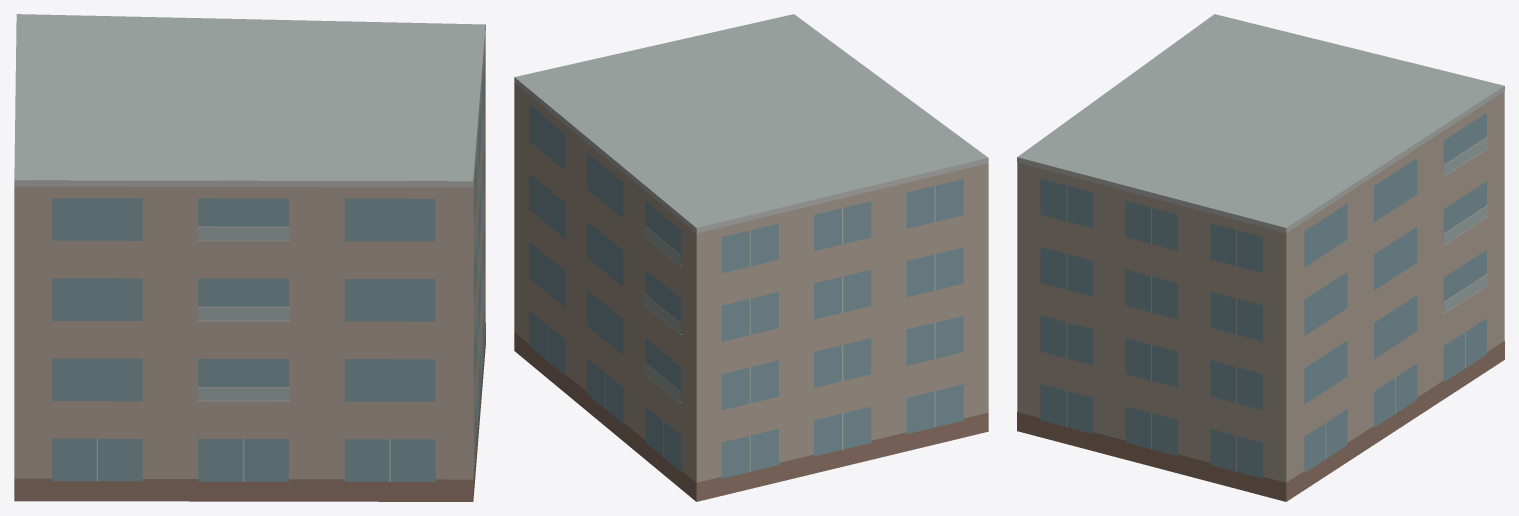
Rendered from survey-upis-32478208.glb.
3 views of the same model, side by side, from view 1: azimuth 30°, elevation 25°; view 2: azimuth 150°, elevation 25°; view 3: azimuth 270°, elevation 25° (orthographic). The views are drawn at different scales.
Visible parts, largest first — view 1: survey-upis-32478208.tmp; view 2: survey-upis-32478208.tmp; view 3: survey-upis-32478208.tmp.
Boxes of the visible parts, <box> form: survey-upis-32478208.tmp: <box>14,14,485,501</box>; survey-upis-32478208.tmp: <box>514,14,988,501</box>; survey-upis-32478208.tmp: <box>1017,14,1504,501</box>.
Size of the model in its own units: 20.95 by 12.5 by 20.17.
